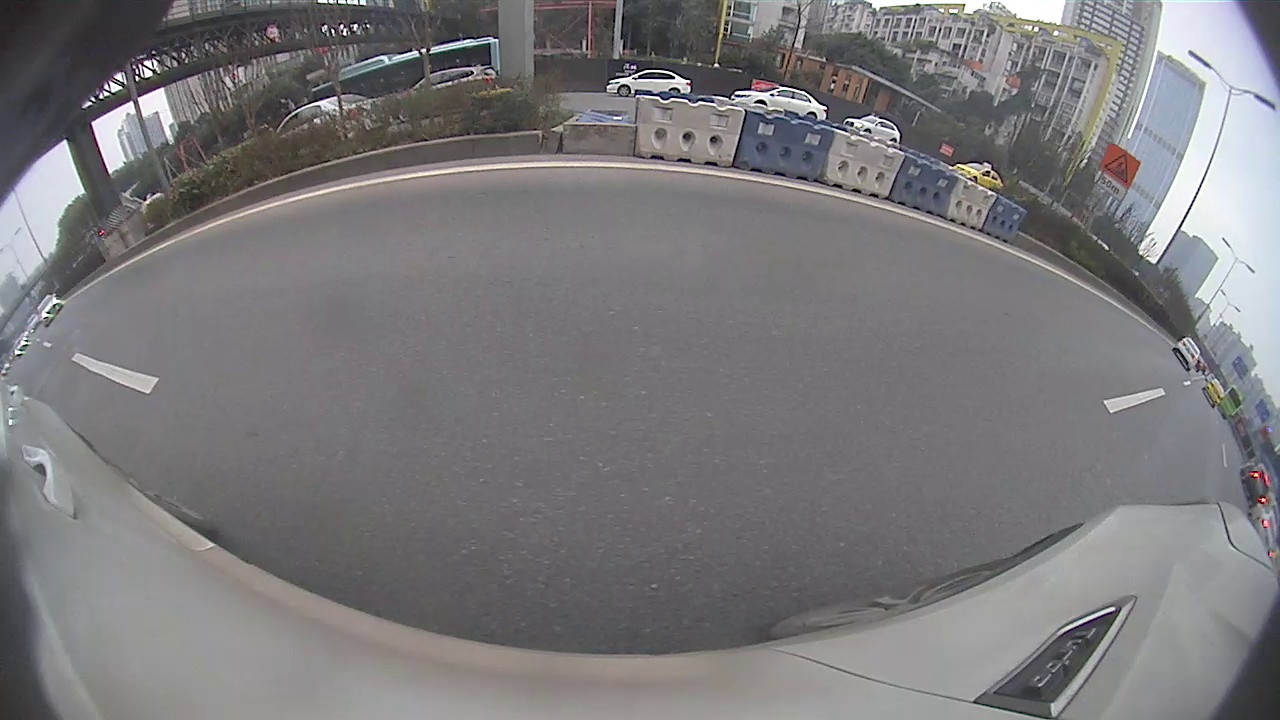car: (1171, 333, 1204, 374), (33, 290, 64, 329), (1201, 376, 1227, 410)
front: (618, 85, 630, 96)
